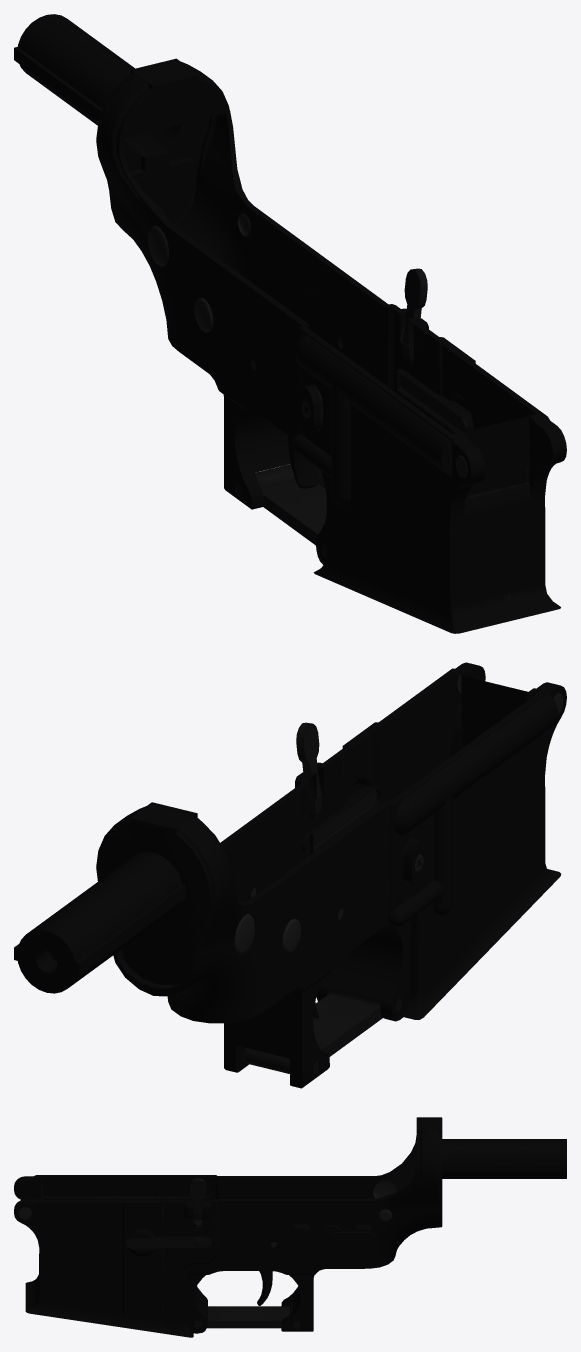
The model's file is LowerReciever.fbx.
3 renders of one model, top to bottom at view 1: azimuth 30°, elevation 25°; view 2: azimuth 150°, elevation 25°; view 3: azimuth 270°, elevation 25°, orthographic. The views are drawn at different scales.
Visible parts, largest first — view 1: LowerReciever; view 2: LowerReciever; view 3: LowerReciever.
Part boxes in pixels (x1,y1,x2,y2): LowerReciever: [14, 14, 566, 633]; LowerReciever: [14, 662, 566, 1088]; LowerReciever: [14, 1117, 566, 1337].
Size of the model in its own units: 3.8 by 10.13 by 25.53.
Materials: 1 (1 with a texture image).
